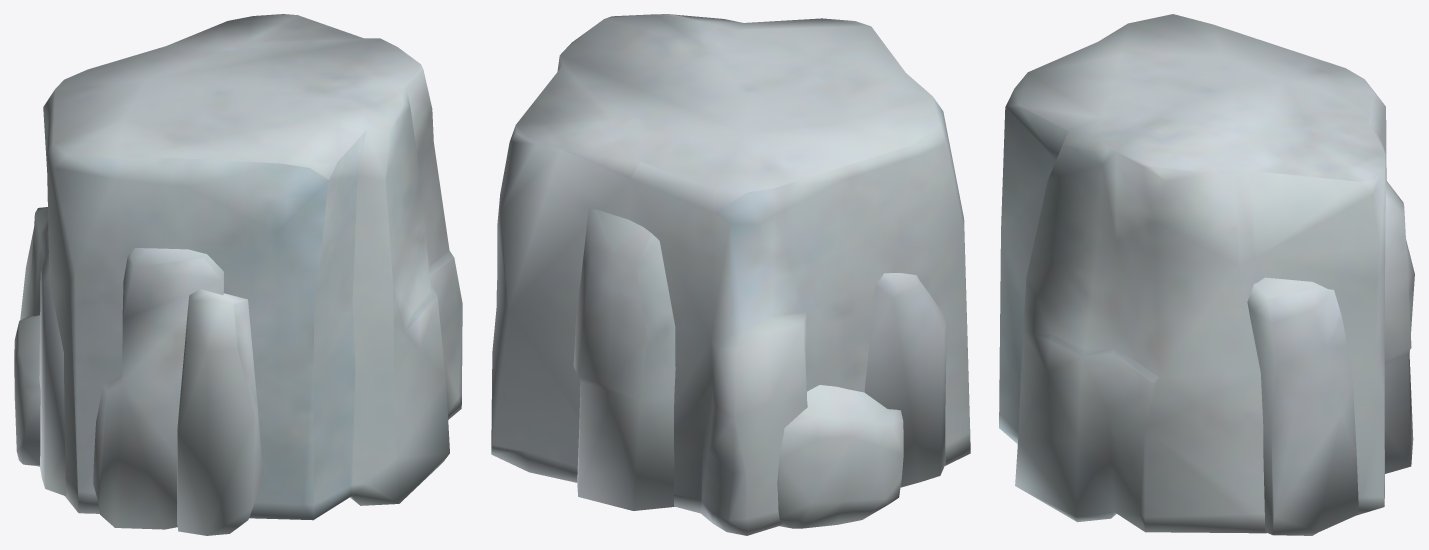
Rendered from P_RockSpire_Shelf04.obj.
3 renders of one model, left to right at view 1: azimuth 30°, elevation 25°; view 2: azimuth 150°, elevation 25°; view 3: azimuth 270°, elevation 25°, orthographic.
Size of the model in its own units: 31.84 by 28.09 by 28.98.
